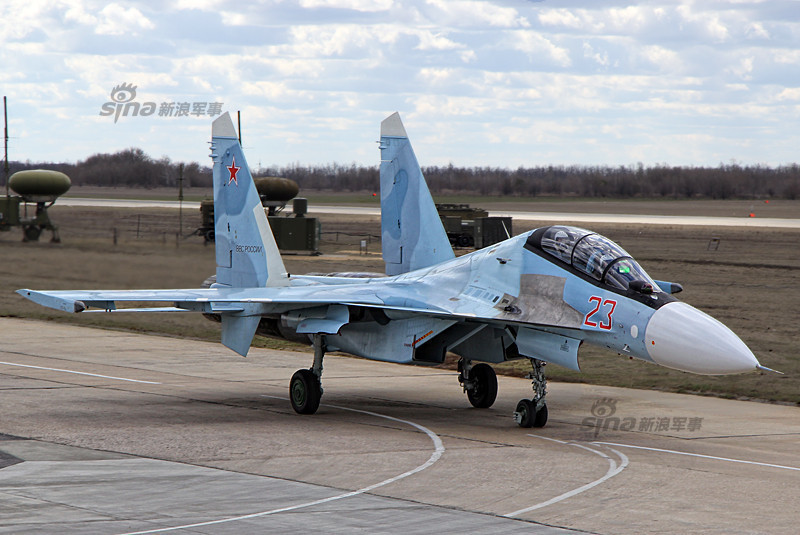airplane: (14, 107, 786, 433)
